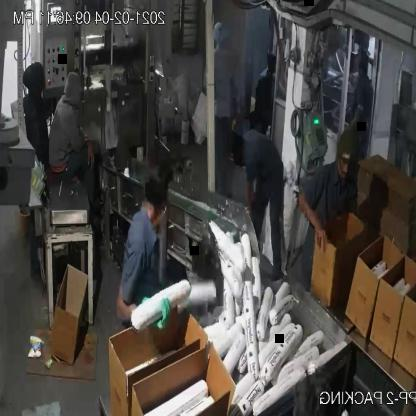glove: (135, 287, 172, 337)
no_glove: (293, 186, 333, 254), (238, 169, 262, 223), (79, 136, 97, 184)
